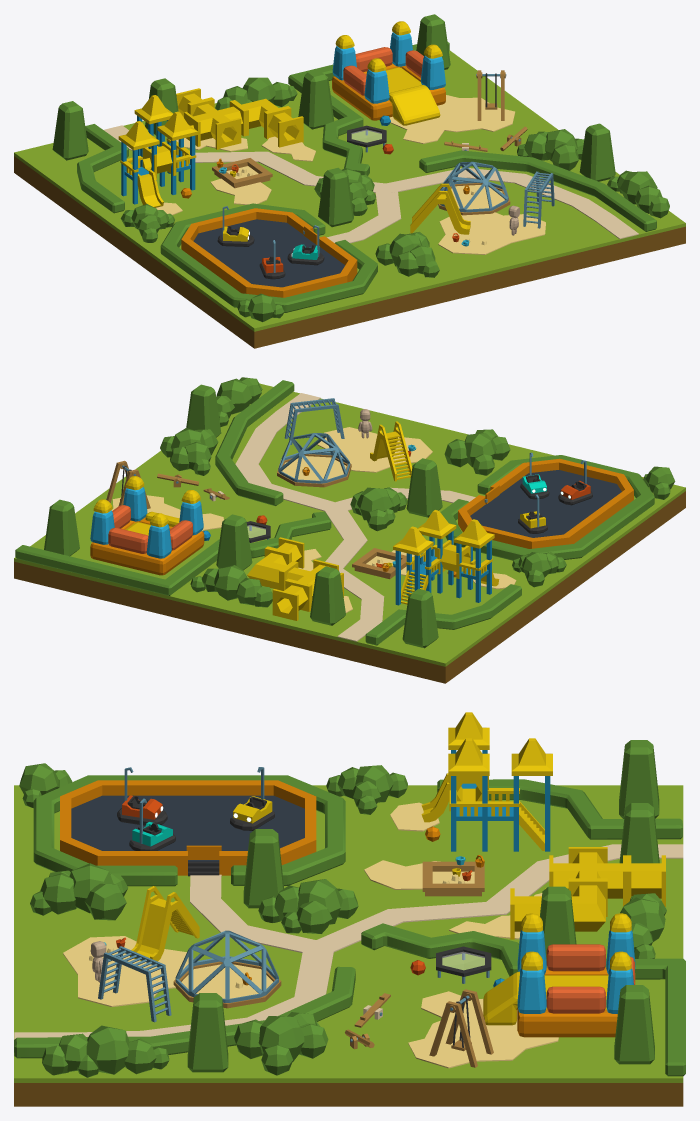
The model's file is playground.glb.
The picture shows the model from 3 angles, top to bottom: view 1: azimuth 30°, elevation 25°; view 2: azimuth 150°, elevation 25°; view 3: azimuth 270°, elevation 25°; orthographic projection. The views are drawn at different scales.
Visible parts, largest first — view 1: Box029_green_0, Line007_green5_0, Box029_dirt_0, Box16950_asphalt_0, Line002_concrete_0, Box16950_orange_0, Box16938_yellow_0, Box16946_yellow_0, Line010_sand_0, Line004_sand_0, Box16946_blue6_0, Box16943_yellow_0 (+27 smaller); view 2: Box029_green_0, Line007_green5_0, Box029_dirt_0, Line002_concrete_0, Box16950_asphalt_0, Box16950_orange_0, Box16938_yellow_0, Box16938_blue_0, Box16946_blue6_0, Line004_sand_0, Box16946_orange_0, Box16971_green5_0 (+27 smaller); view 3: Box029_green_0, Line007_green5_0, Box029_dirt_0, Box16950_orange_0, Box16950_asphalt_0, Line002_concrete_0, Box16938_yellow_0, Box16967_green5_0, Line010_sand_0, Line004_sand_0, Box16960_green5_0, Box16951_green5_0 (+31 smaller).
Part boxes in pixels (x1,y1,x2,y2): Box029_green_0: (14,50,685,331); Line007_green5_0: (77,42,656,312); Box029_dirt_0: (14,156,685,348); Box16950_asphalt_0: (193,219,344,287); Line002_concrete_0: (104,125,638,238); Box16950_orange_0: (181,208,357,297); Box16938_yellow_0: (118,95,197,207); Box16946_yellow_0: (335,21,442,125); Line010_sand_0: (389,95,515,143); Line004_sand_0: (438,212,545,254); Box16946_blue6_0: (332,32,445,103); Box16943_yellow_0: (184,98,246,149); Box029_green_0: (14,383,685,666); Line007_green5_0: (15,380,654,645); Box029_dirt_0: (14,491,685,683); Line002_concrete_0: (235,393,384,641); Box16950_asphalt_0: (470,470,621,537); Box16950_orange_0: (458,458,633,548); Box16938_yellow_0: (393,510,499,604); Box16938_blue_0: (395,531,491,605); Box16946_blue6_0: (90,487,203,558); Line004_sand_0: (317,427,432,472); Box16946_orange_0: (90,517,204,575); Box16971_green5_0: (190,565,272,607); Box029_green_0: (14,785,683,1082); Line007_green5_0: (14,775,685,1076); Box029_dirt_0: (14,1083,683,1106); Box16950_orange_0: (60,780,316,875); Box16950_asphalt_0: (71,795,304,861); Line002_concrete_0: (14,844,683,1039); Box16938_yellow_0: (421,712,552,850); Box16967_green5_0: (42,1025,169,1077); Line010_sand_0: (408,991,558,1068); Line004_sand_0: (63,936,188,1007); Box16960_green5_0: (234,1012,328,1075); Box16951_green5_0: (30,863,128,920).
Bounding box in the file's own units: 26.83 × 5.63 × 25.89.
